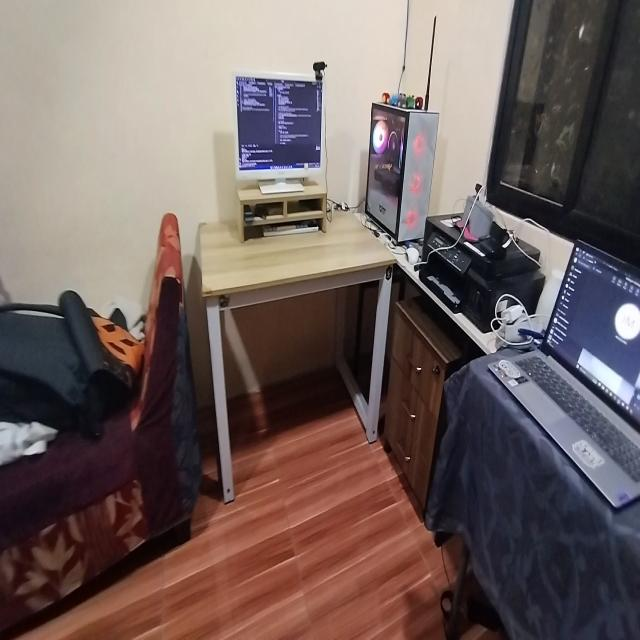table: (194, 202, 400, 492)
